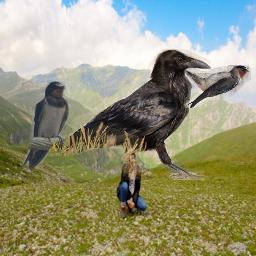Crow: (36, 49, 211, 180)
Swallow: (22, 81, 69, 169), (184, 65, 251, 108)
